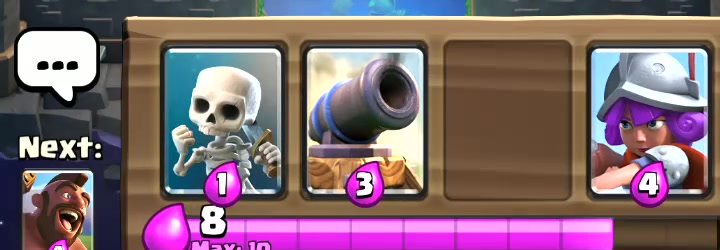cannon: (315, 50, 427, 194)
hog-rider: (23, 171, 93, 250)
musketeer: (597, 46, 710, 199)
